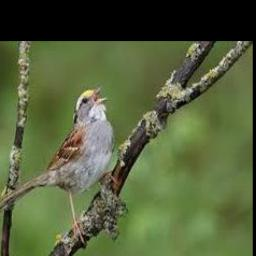Sparrow: (0, 85, 115, 247)
